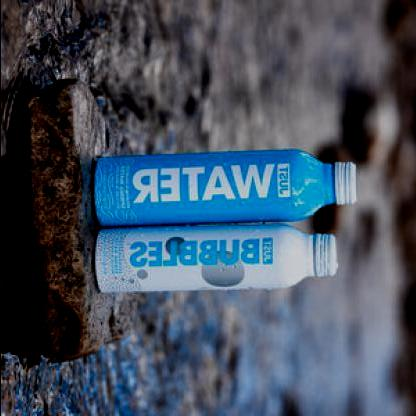bottle: (87, 217, 346, 298), (92, 150, 362, 224)
